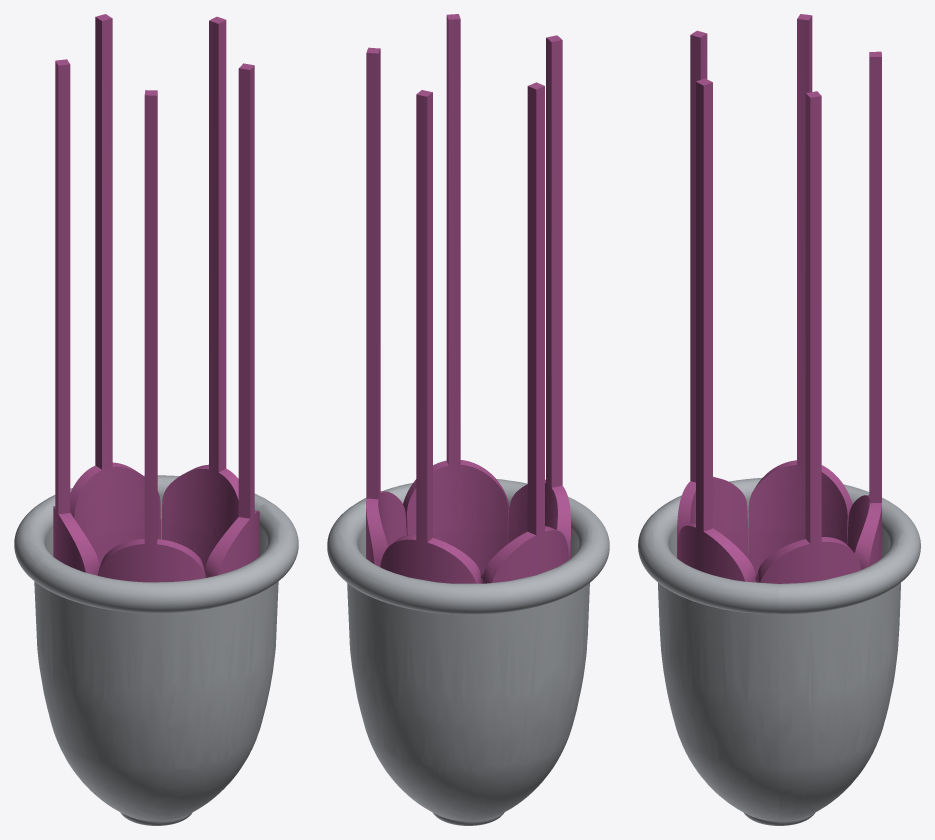
Rendered from concept-flower-low.glb.
The picture shows the model from 3 angles, left to right: view 1: azimuth 30°, elevation 25°; view 2: azimuth 150°, elevation 25°; view 3: azimuth 270°, elevation 25°; orthographic projection.
Parts seen in each view (by area): view 1: flower-cup-withrim-part-5, flower-cup-withrim-part-1, flower-cup-withrim-part-3; view 2: flower-cup-withrim-part-5, flower-cup-withrim-part-3, flower-cup-withrim-part-1; view 3: flower-cup-withrim-part-5, flower-cup-withrim-part-1, flower-cup-withrim-part-3.
Part boxes in pixels (x1=…): flower-cup-withrim-part-5: x1=53, y1=14, x2=259, y2=582; flower-cup-withrim-part-1: x1=33, y1=503, x2=298, y2=821; flower-cup-withrim-part-3: x1=14, y1=475, x2=273, y2=794; flower-cup-withrim-part-5: x1=366, y1=14, x2=570, y2=583; flower-cup-withrim-part-3: x1=327, y1=505, x2=590, y2=821; flower-cup-withrim-part-1: x1=353, y1=479, x2=609, y2=804; flower-cup-withrim-part-5: x1=677, y1=14, x2=881, y2=583; flower-cup-withrim-part-1: x1=638, y1=477, x2=779, y2=821; flower-cup-withrim-part-3: x1=779, y1=484, x2=920, y2=821.
Size of the model in its own units: 0.046 by 0.1356 by 0.046.
